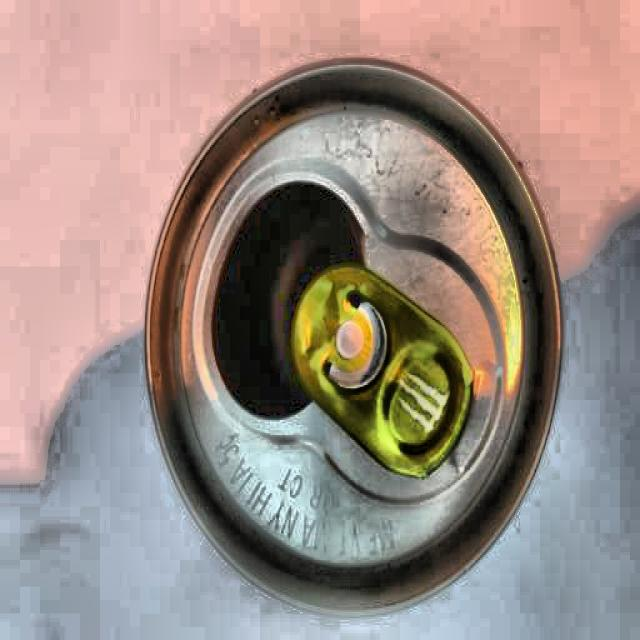metal: (143, 54, 567, 621)
